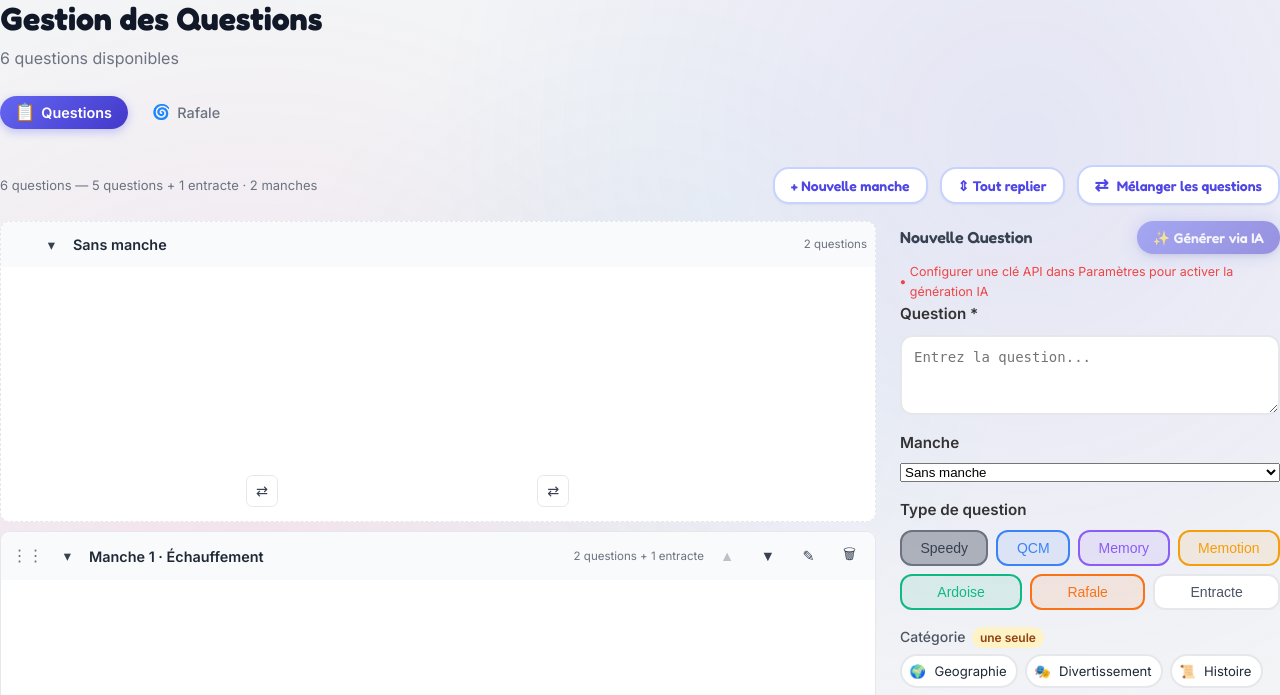
Test: Éditeur — suppression avec choix (scénario 31) › Critical — fenêtre : comptes justes, focus sur « Conserver », rôle dialog modal
Click the button named "Supprimer la manche" at (849, 556), box 832,538 -> 867,574
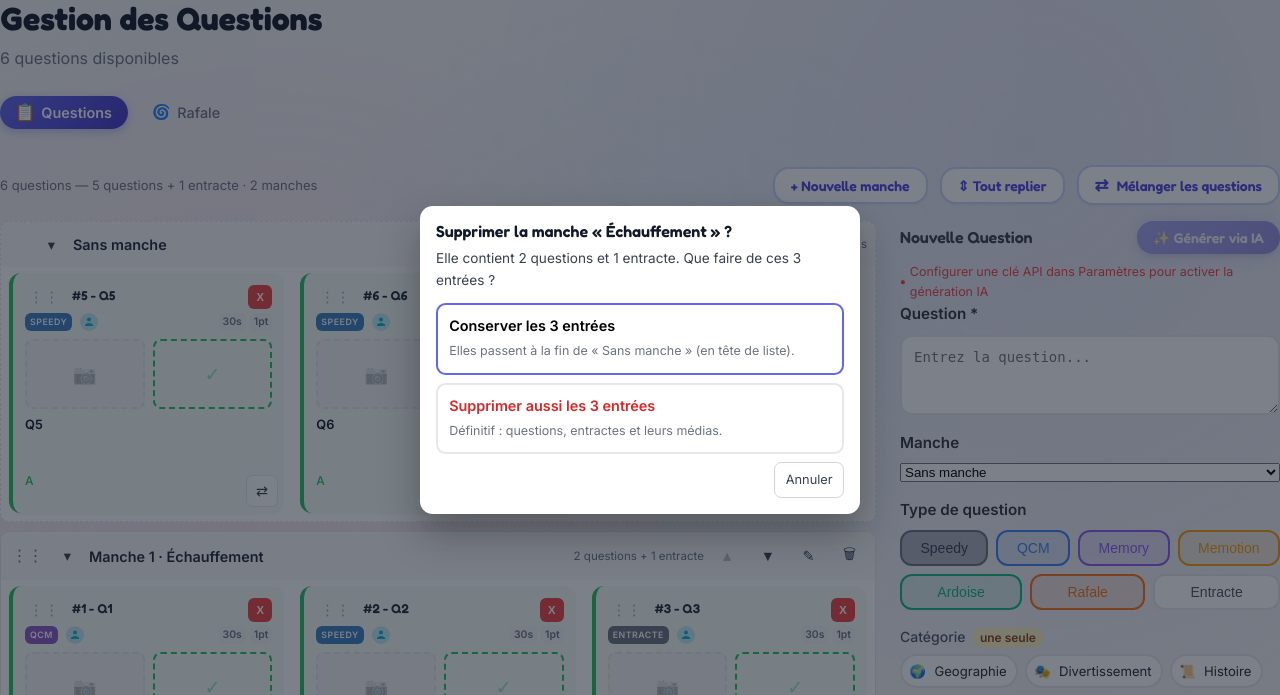
Now the dialog shows "Elle contient 2 questions et 1 entracte. Que faire de ces 3 entrées ?", box 420,206 -> 860,514
Now the button "Supprimer aussi les 3 entrées" is shown, box 436,382 -> 844,454
